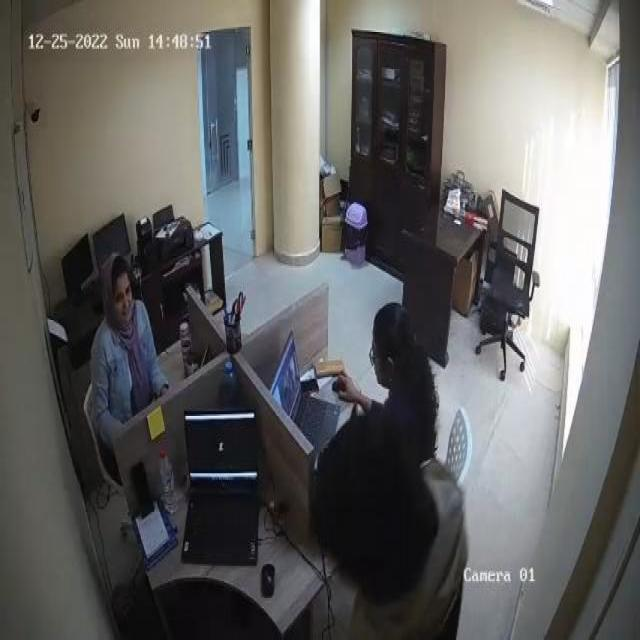bare_hand: (332, 367, 362, 409)
